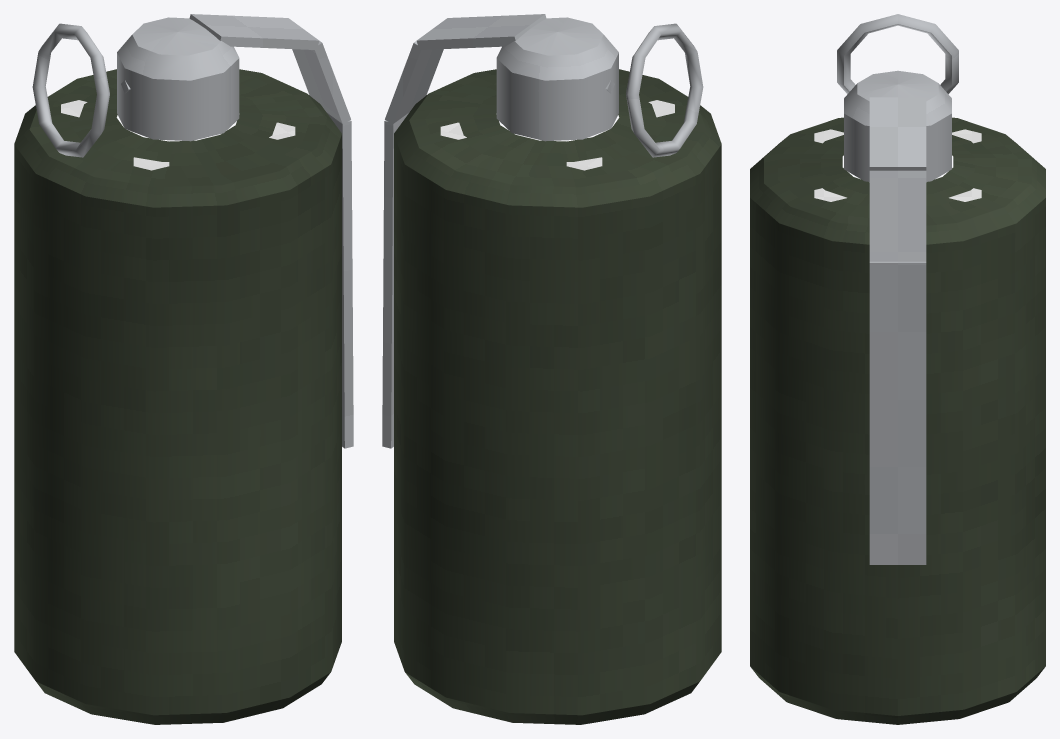
Rendered from item_smoke_can.glb.
The picture shows the model from 3 angles, left to right: view 1: azimuth 30°, elevation 25°; view 2: azimuth 150°, elevation 25°; view 3: azimuth 270°, elevation 25°; orthographic projection. The views are drawn at different scales.
Parts seen in each view (by area): view 1: smoke; view 2: smoke; view 3: smoke.
Boxes of the visible parts, x1,y1,x2,y2 form: smoke: [14, 14, 353, 724]; smoke: [382, 14, 721, 724]; smoke: [750, 14, 1045, 724].
Bounding box in the file's own units: 0.068 × 0.1413 × 0.0624.
Materials: 4 (4 with a texture image).
